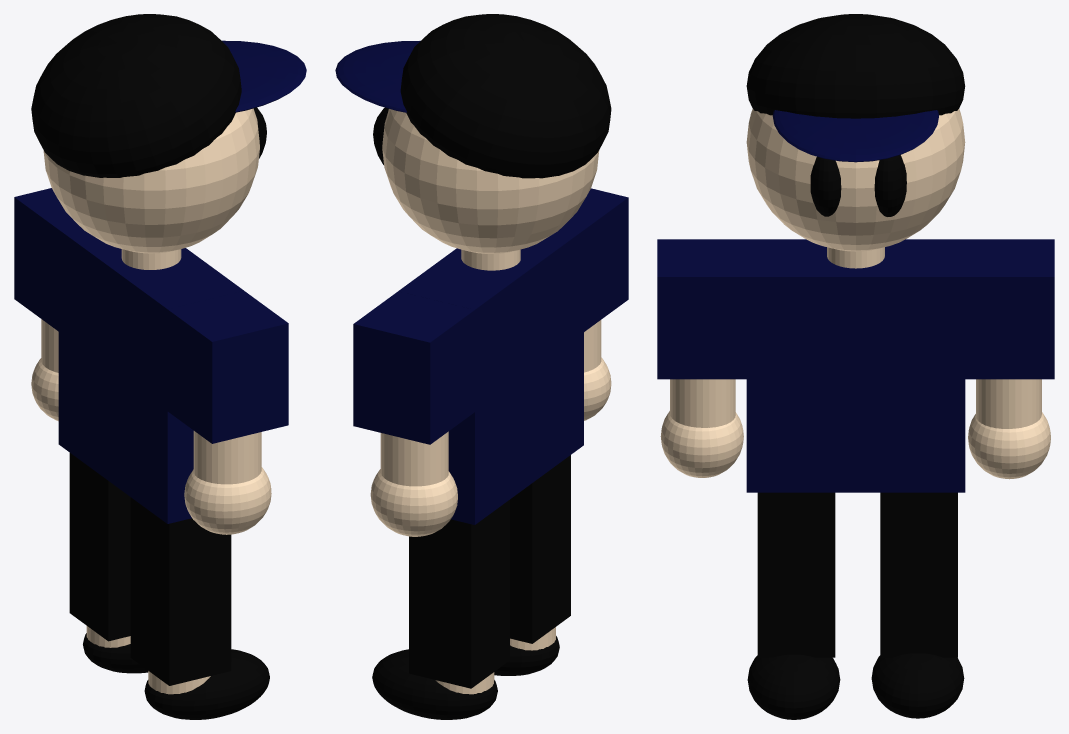
The model's file is NPC1.fbx.
3 renders of one model, left to right at view 1: azimuth 30°, elevation 25°; view 2: azimuth 150°, elevation 25°; view 3: azimuth 270°, elevation 25°, orthographic.
Visible parts, largest first — view 1: Cube, Sphere.003, Cube.004, Cube.001, Sphere, Cube.003, Sphere.015, Cube.002, Sphere.018, Sphere.004, Sphere.014, Sphere.019 (+1 smaller); view 2: Cube, Sphere.003, Cube.002, Sphere, Cube.003, Cube.004, Sphere.014, Cube.001, Sphere.019, Sphere.004, Sphere.015, Sphere.018 (+2 smaller); view 3: Cube, Sphere.003, Sphere, Cube.004, Cube.003, Cube.001, Cube.002, Sphere.014, Sphere.015, Sphere.004, Sphere.018, Sphere.019 (+3 smaller).
Part boxes in pixels (bbox=[...]): Cube: bbox=[58, 225, 243, 523]; Sphere.003: bbox=[31, 14, 241, 177]; Cube.004: bbox=[130, 497, 231, 685]; Cube.001: bbox=[167, 291, 288, 443]; Sphere: bbox=[43, 108, 259, 253]; Cube.003: bbox=[69, 453, 130, 641]; Sphere.015: bbox=[184, 431, 271, 534]; Cube.002: bbox=[14, 188, 77, 331]; Sphere.018: bbox=[144, 649, 269, 719]; Sphere.004: bbox=[222, 40, 306, 112]; Sphere.014: bbox=[31, 319, 58, 421]; Sphere.019: bbox=[83, 626, 148, 673]; Cube: bbox=[398, 225, 583, 524]; Sphere.003: bbox=[400, 14, 611, 178]; Cube.002: bbox=[353, 291, 475, 444]; Sphere: bbox=[382, 109, 599, 253]; Cube.003: bbox=[409, 500, 509, 688]; Cube.004: bbox=[510, 455, 570, 643]; Sphere.014: bbox=[370, 431, 457, 536]; Cube.001: bbox=[564, 188, 628, 331]; Sphere.019: bbox=[372, 649, 497, 719]; Sphere.004: bbox=[335, 40, 420, 112]; Sphere.015: bbox=[584, 320, 611, 420]; Sphere.018: bbox=[494, 627, 559, 675]; Cube: bbox=[746, 239, 965, 492]; Sphere.003: bbox=[746, 14, 965, 118]; Sphere: bbox=[746, 109, 965, 251]; Cube.004: bbox=[757, 492, 835, 657]; Cube.003: bbox=[880, 492, 957, 657]; Cube.001: bbox=[657, 239, 747, 379]; Cube.002: bbox=[964, 239, 1054, 379]; Sphere.014: bbox=[968, 379, 1050, 479]; Sphere.015: bbox=[660, 379, 743, 477]; Sphere.004: bbox=[772, 110, 938, 162]; Sphere.018: bbox=[747, 654, 840, 719]; Sphere.019: bbox=[871, 653, 964, 718].
Size of the model in its own units: 267 by 677 by 364.
